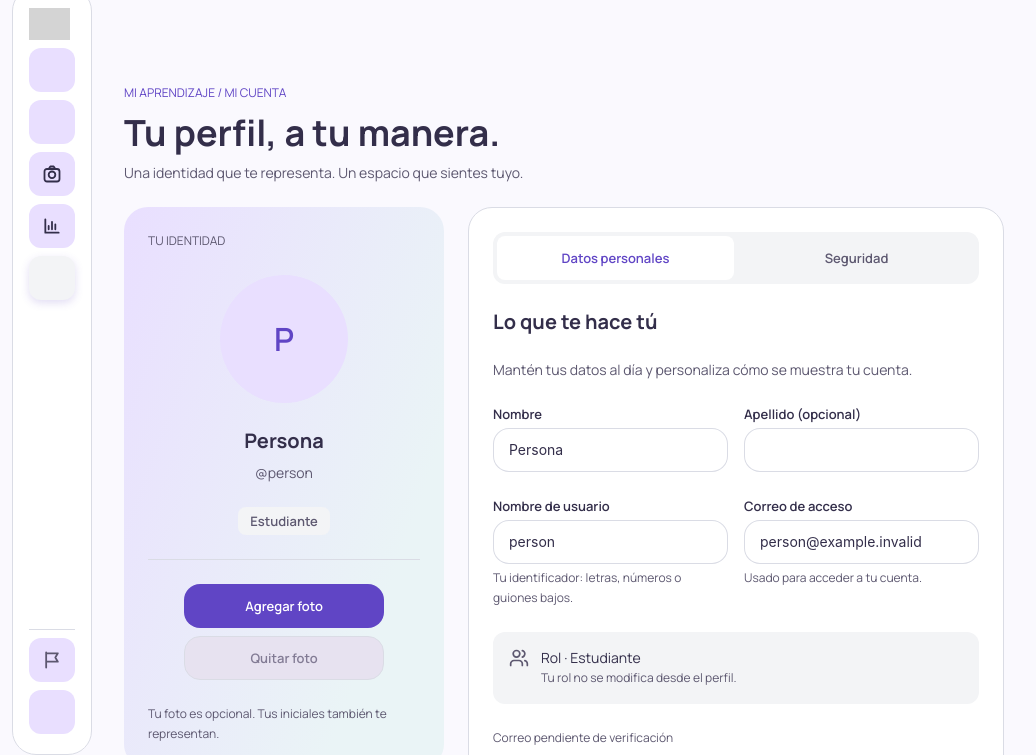
Test case: USER edita su perfil con CSRF y sin enviar identidad ni rol privilegiado
Replace the text in the field labelled "Nombre" with "Nombre guardado" at (610, 450), box [509,440,712,460]
(page scrolled)
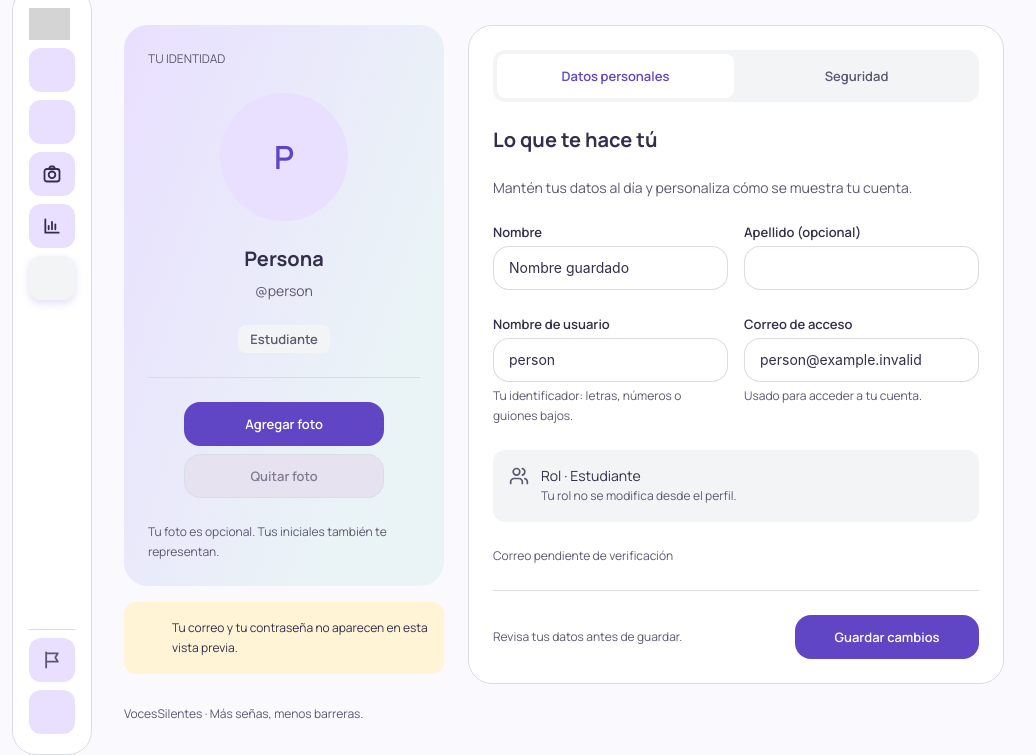
Click the button "Guardar cambios" at (887, 638), box [795,616,979,660]
(page scrolled)
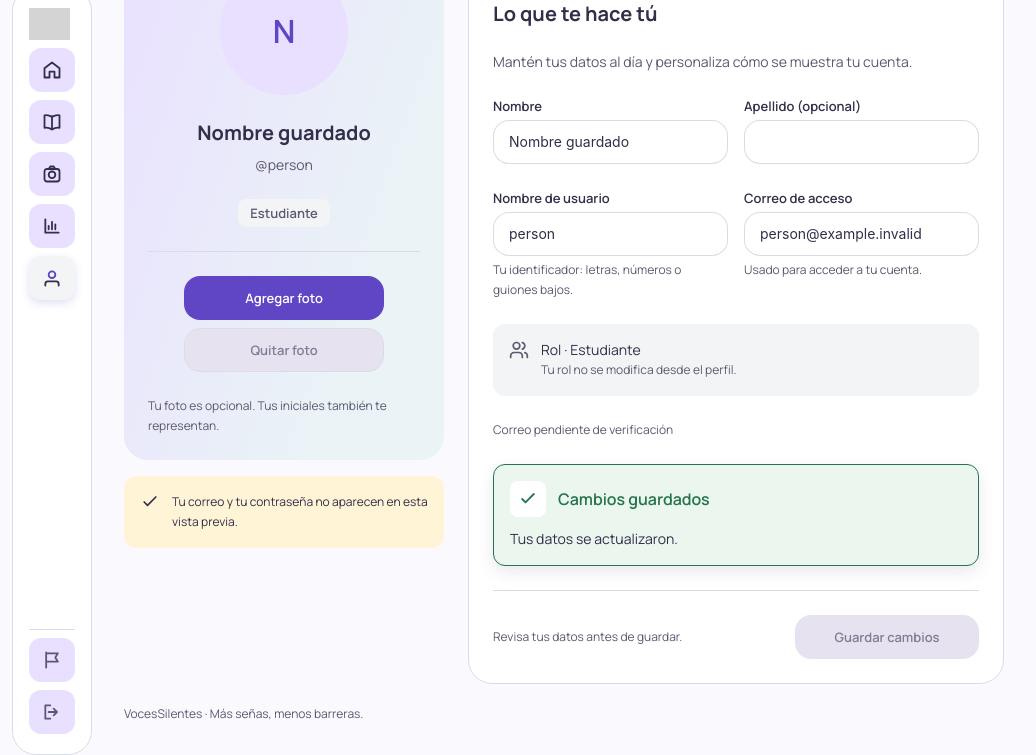
Check: the text "Cambios guardados" is shown, box [558,488,710,512]
Check: the button "Guardar cambios" is disabled, box [795,616,979,660]
